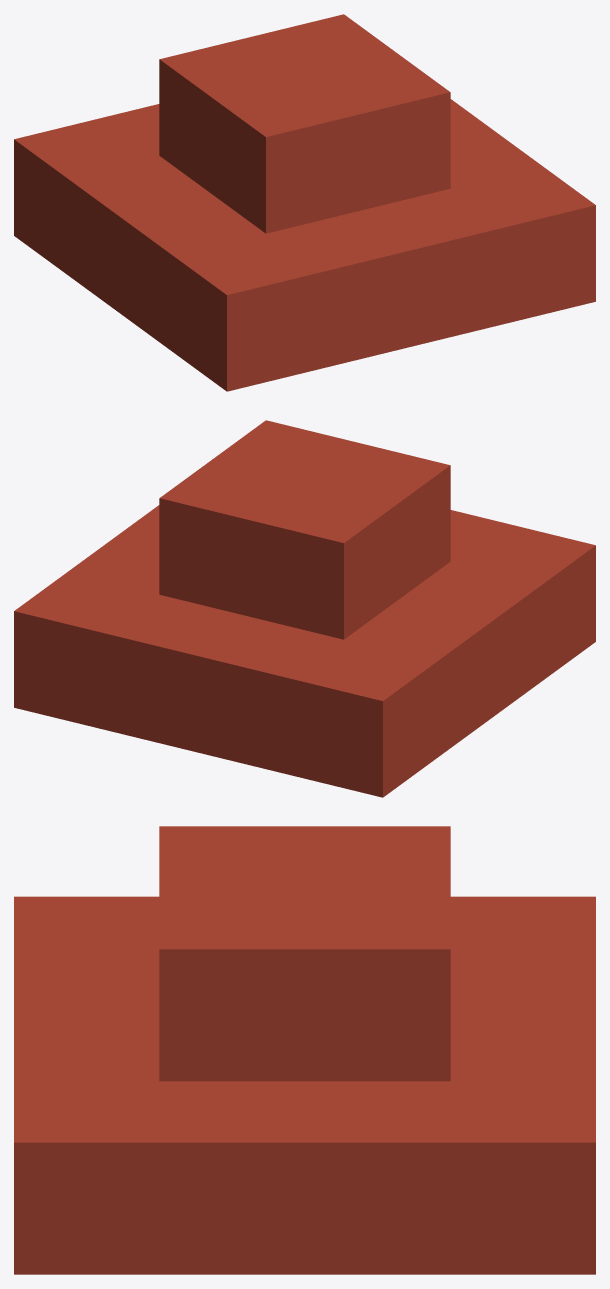
File: roof_pyramid.glb
3 views of the same model, one above another, from view 1: azimuth 30°, elevation 25°; view 2: azimuth 150°, elevation 25°; view 3: azimuth 270°, elevation 25° (orthographic). The views are drawn at different scales.
Parts seen in each view (by area): view 1: roof_pyramid; view 2: roof_pyramid; view 3: roof_pyramid.
Boxes of the visible parts, x1,y1,x2,y2 form: roof_pyramid: [14, 14, 595, 391]; roof_pyramid: [14, 420, 595, 797]; roof_pyramid: [14, 826, 595, 1274].
Bounding box in the file's own units: 1 × 0.5 × 1.
1 material, 1 textured.
